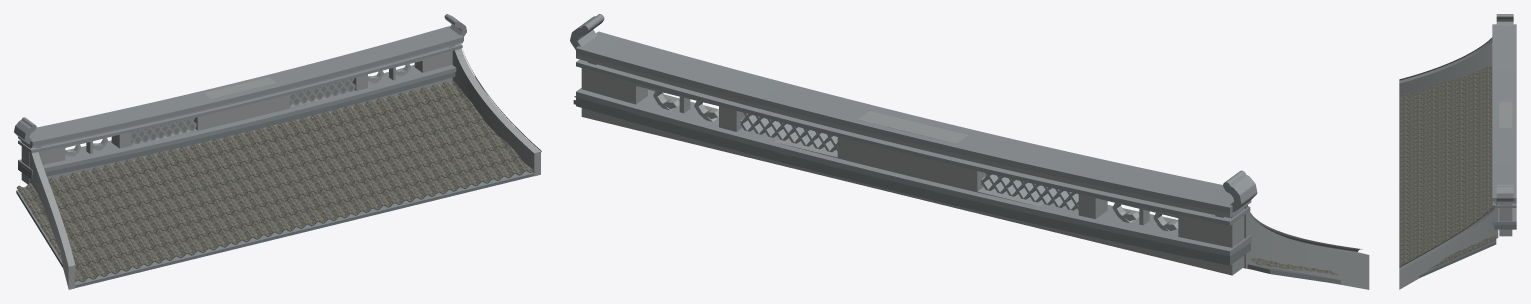
The model's file is xishi-street-guandi-hall-pierced-ridge-near.glb.
3 views of the same model, side by side, from view 1: azimuth 30°, elevation 25°; view 2: azimuth 150°, elevation 25°; view 3: azimuth 270°, elevation 25° (orthographic). The views are drawn at different scales.
Parts seen in each view (by area): view 1: 西市街关帝庙正厅的镂空菱格正脊与卷端; view 2: 西市街关帝庙正厅的镂空菱格正脊与卷端; view 3: 西市街关帝庙正厅的镂空菱格正脊与卷端.
Boxes of the visible parts, left/top/right/bottom form: 西市街关帝庙正厅的镂空菱格正脊与卷端: left=14, top=14, right=541, bottom=289; 西市街关帝庙正厅的镂空菱格正脊与卷端: left=570, top=14, right=1369, bottom=289; 西市街关帝庙正厅的镂空菱格正脊与卷端: left=1399, top=14, right=1516, bottom=289.
Bounding box in the file's own units: 4.52 × 1.05 × 1.18.
Materials: 6 (1 with a texture image).
